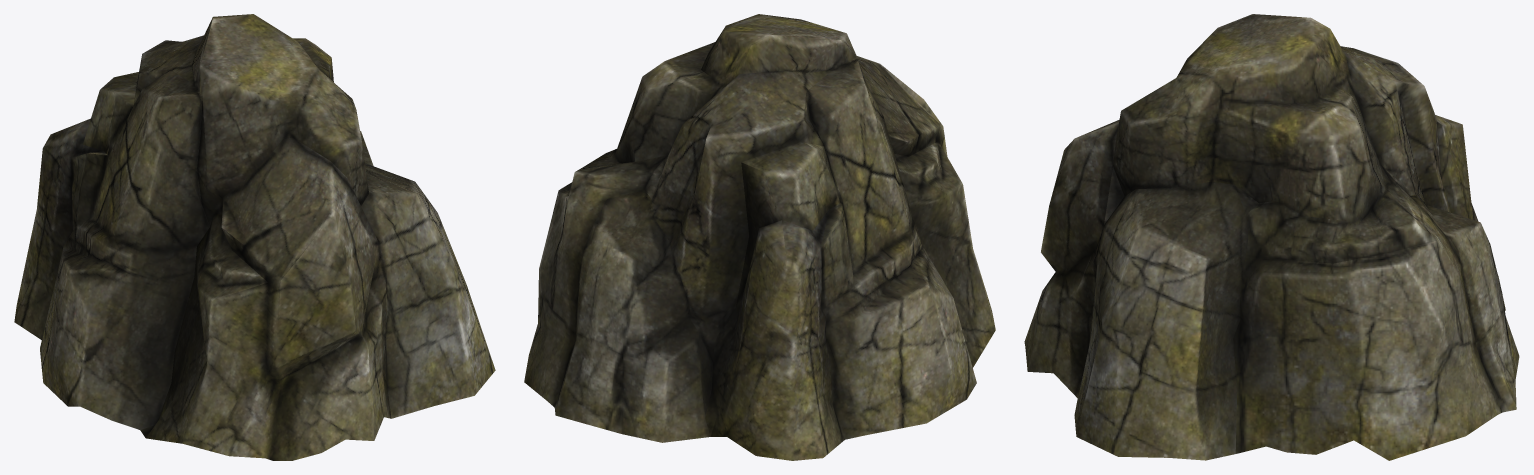
File: rock_01.dae
3 renders of one model, left to right at view 1: azimuth 30°, elevation 25°; view 2: azimuth 150°, elevation 25°; view 3: azimuth 270°, elevation 25°, orthographic. The views are drawn at different scales.
Visible parts, largest first — view 1: Rock_big_single_b; view 2: Rock_big_single_b; view 3: Rock_big_single_b.
Part boxes in pixels (x1,y1,x2,y2): Rock_big_single_b: [14, 14, 495, 460]; Rock_big_single_b: [524, 14, 995, 460]; Rock_big_single_b: [1024, 14, 1519, 460].
Size of the model in its own units: 63.92 by 56.54 by 71.78.
1 material, 1 textured.
